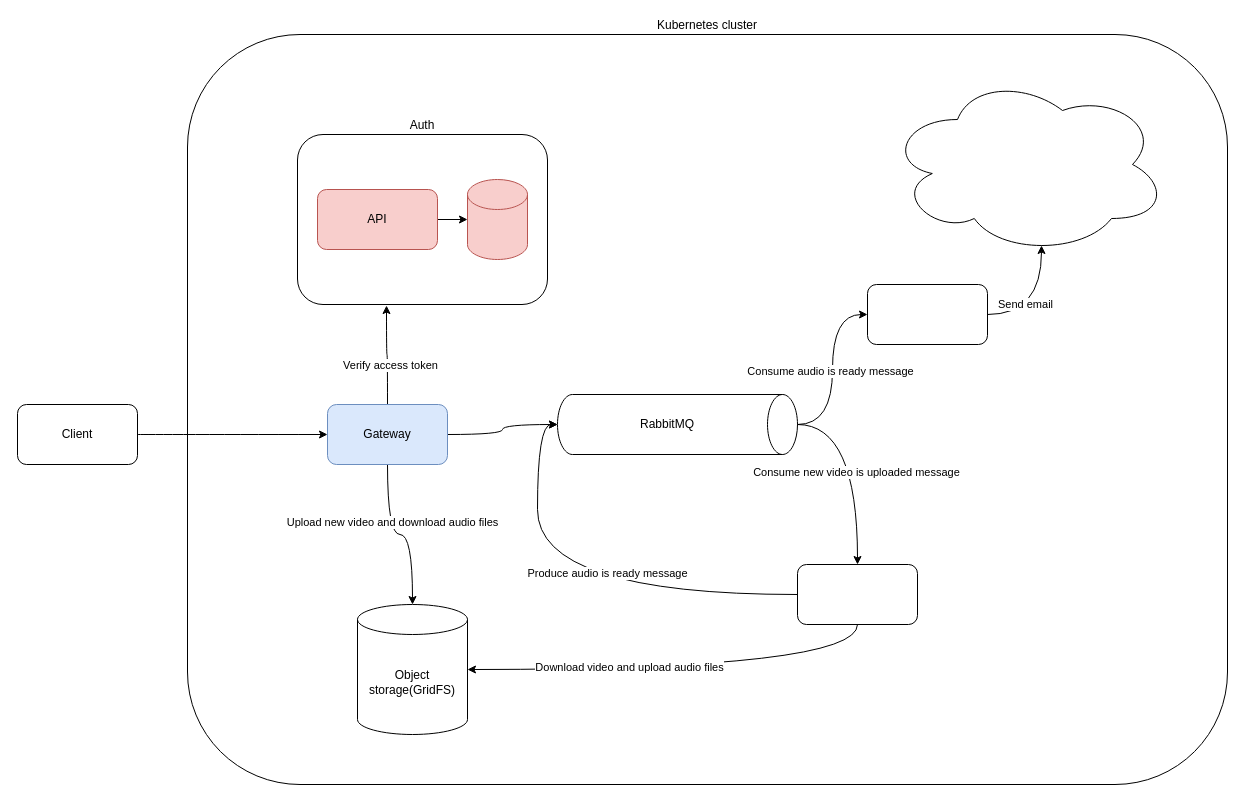
The diagram is 1245 pixels wide and 802 high, and some of its shapes have lost their labels. The centre of each missing label's shape, as x and y in pixels:
"Converter" belongs at pixel 857 594.
"DB" belongs at pixel 497 219.
"Email Provider" belongs at pixel 1027 164.
"Notification" belongs at pixel 927 314.
